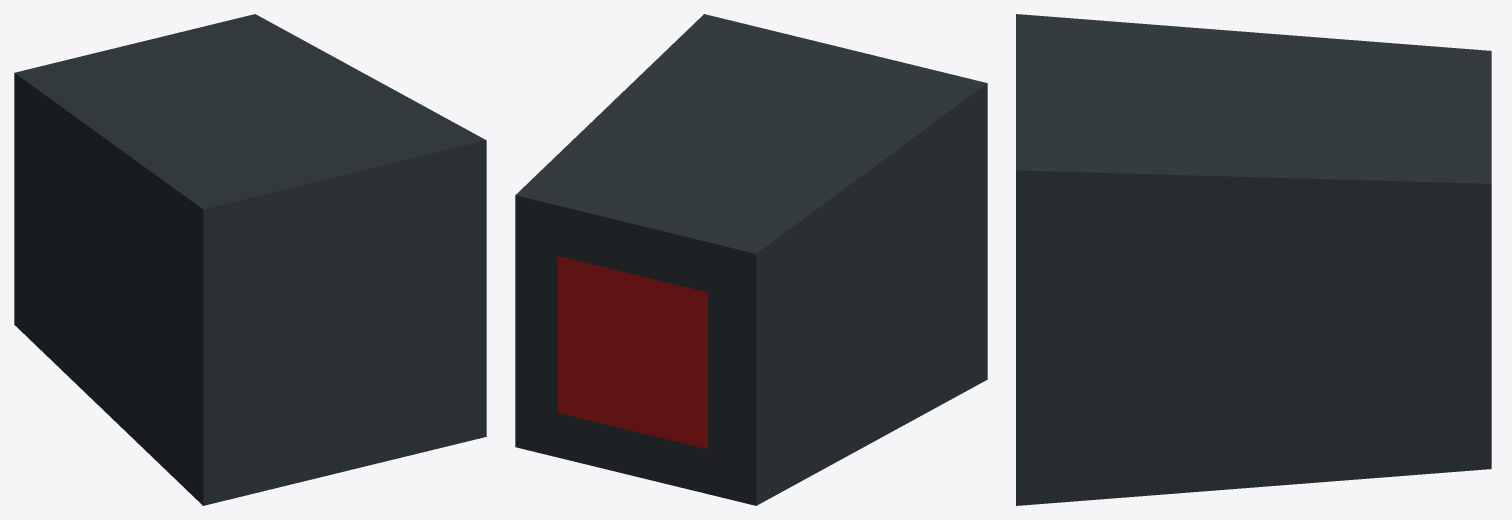
3 views of the same model, side by side, from view 1: azimuth 30°, elevation 25°; view 2: azimuth 150°, elevation 25°; view 3: azimuth 270°, elevation 25° (orthographic). The views are drawn at different scales.
Visible parts, largest first — view 1: mount; view 2: mount; view 3: mount.
Part boxes in pixels (x1=…): mount: x1=14, y1=14, x2=486, y2=505; mount: x1=515, y1=14, x2=987, y2=505; mount: x1=1016, y1=14, x2=1491, y2=505.
Size of the model in its own units: 1.77 by 1.77 by 2.3.
